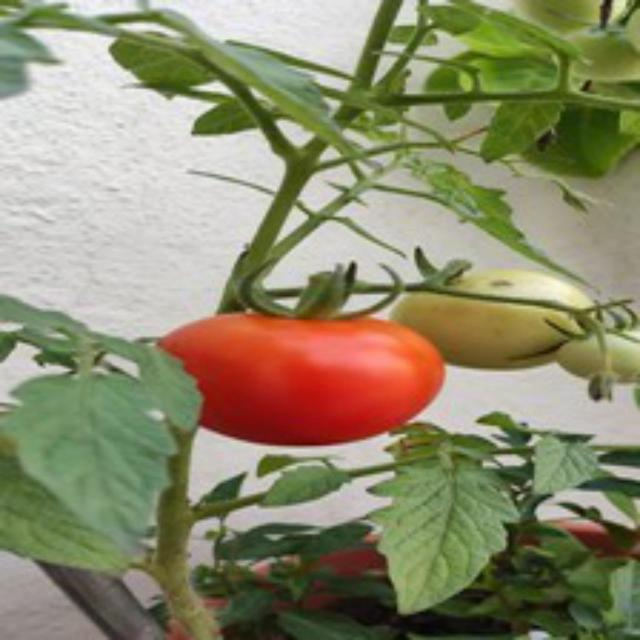tomato: (160, 301, 454, 452)
